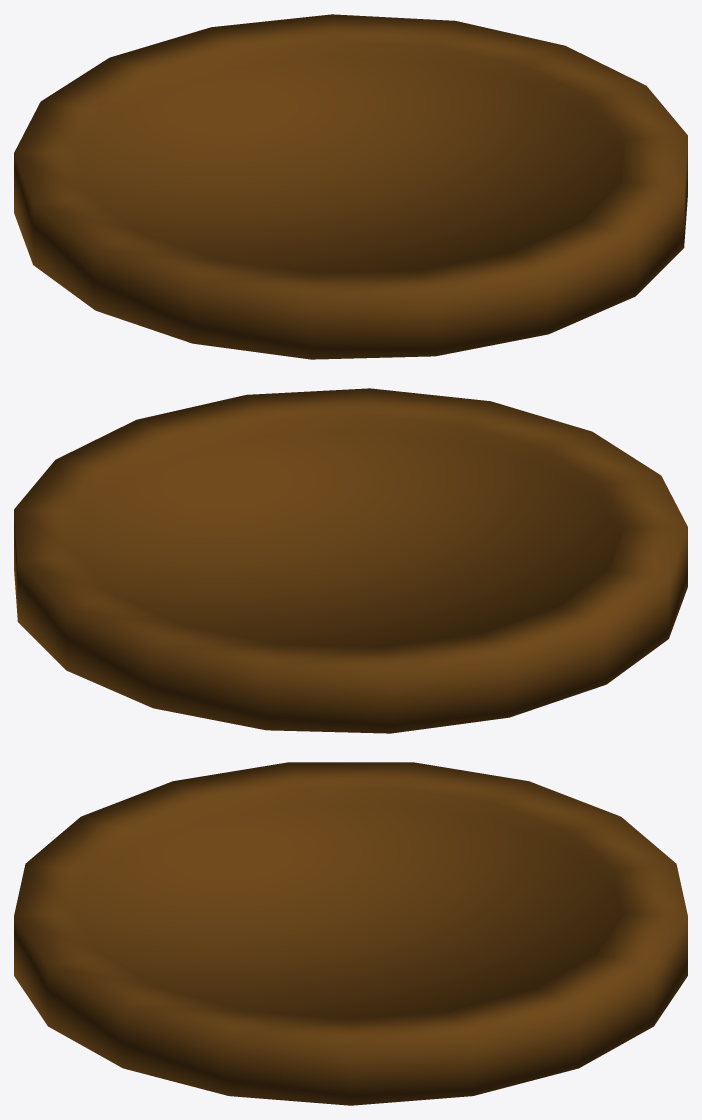
Rendered from Dice Bowl.obj.
The picture shows the model from 3 angles, top to bottom: view 1: azimuth 30°, elevation 25°; view 2: azimuth 150°, elevation 25°; view 3: azimuth 270°, elevation 25°; orthographic projection.
Parts seen in each view (by area): view 1: Choco_Lagoon; view 2: Choco_Lagoon; view 3: Choco_Lagoon.
Part boxes in pixels (<box>): Choco_Lagoon: <box>14,14,687,359</box>; Choco_Lagoon: <box>14,388,687,733</box>; Choco_Lagoon: <box>14,762,687,1105</box>.
Size of the model in its own units: 93.74 by 9.23 by 94.14.
